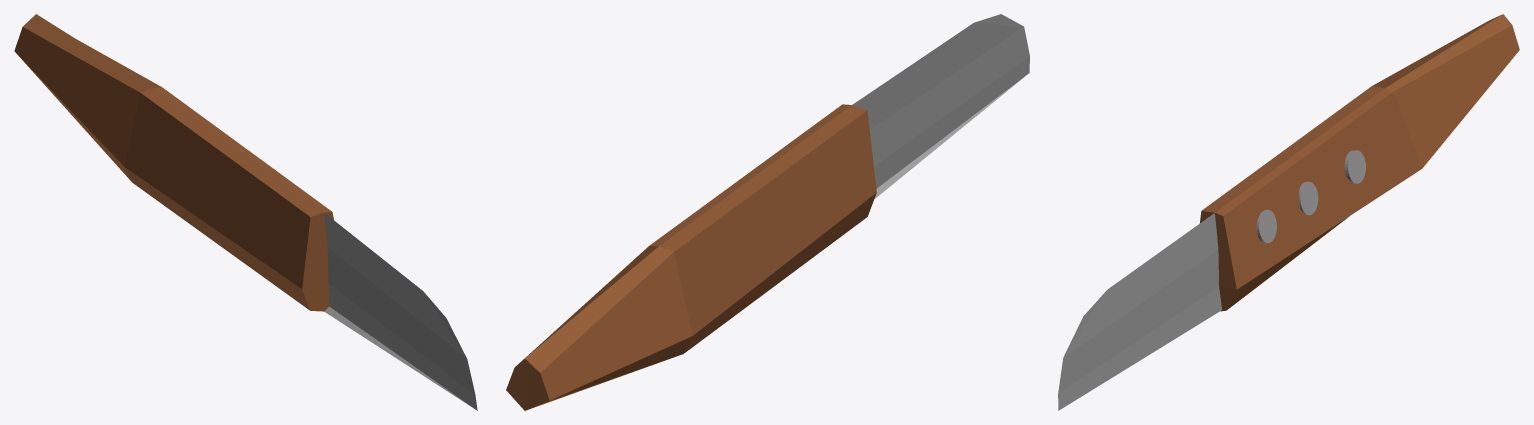
The model's file is messer.fbx.
3 views of the same model, side by side, from view 1: azimuth 30°, elevation 25°; view 2: azimuth 150°, elevation 25°; view 3: azimuth 330°, elevation 25° (orthographic). The views are drawn at different scales.
Parts seen in each view (by area): view 1: Cube; view 2: Cube; view 3: Cube.
Boxes of the visible parts, x1,y1,x2,y2 form: Cube: [14, 14, 477, 410]; Cube: [506, 14, 1029, 410]; Cube: [1058, 14, 1519, 410].
Bounding box in the file's own units: 2.04 × 2.9 × 23.48.
